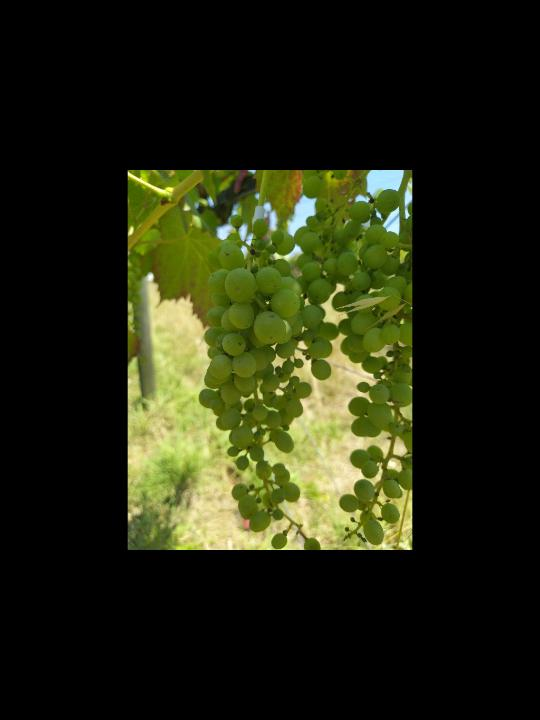grape: (197, 213, 339, 547)
